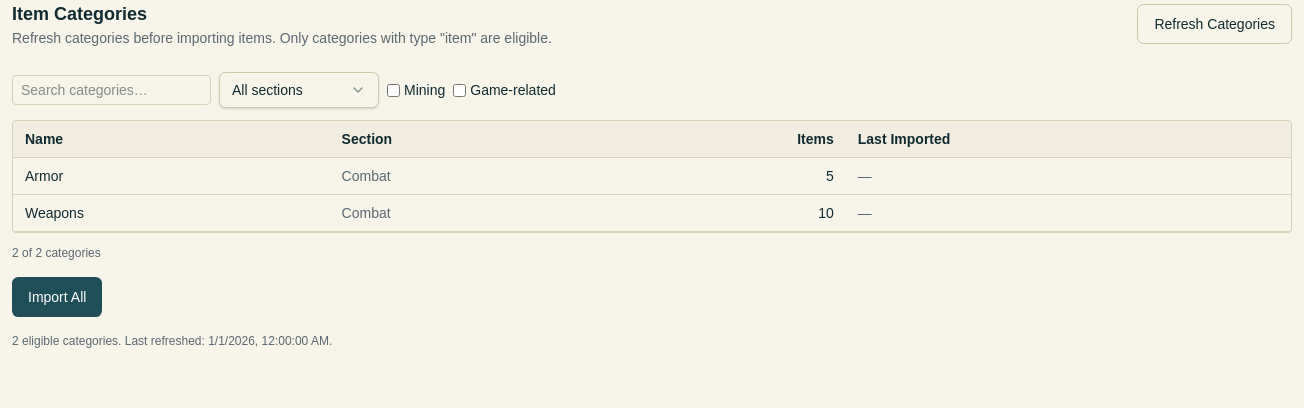
it: ItemsImportTab › shows concurrency message on 409
Click the button "Import All". click: (57, 297)
box: x1=12 y1=277 x2=102 y2=317
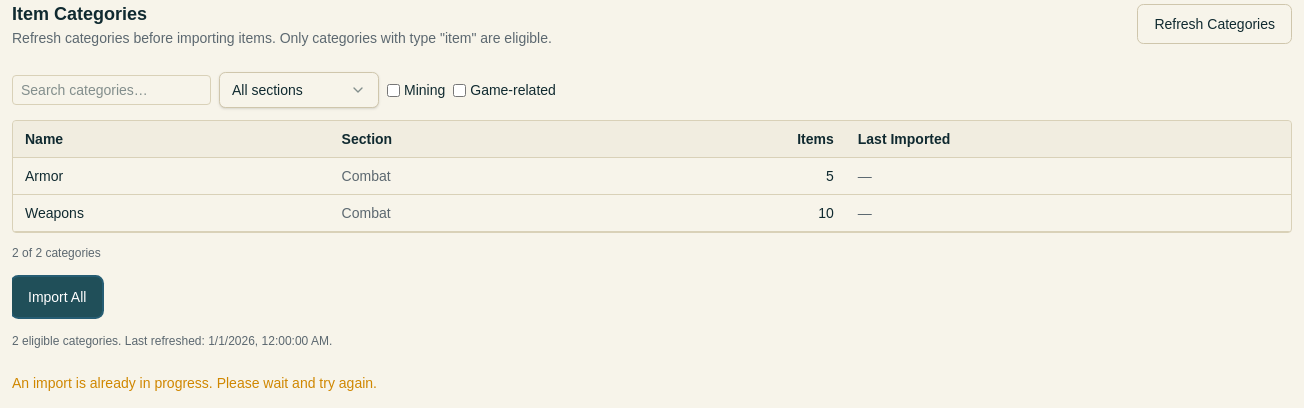
Expected: the message shows "already in progress", x1=12 y1=375 x2=377 y2=391
